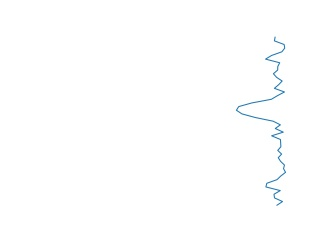interdistributaryEstuary: (231, 37, 292, 206)
